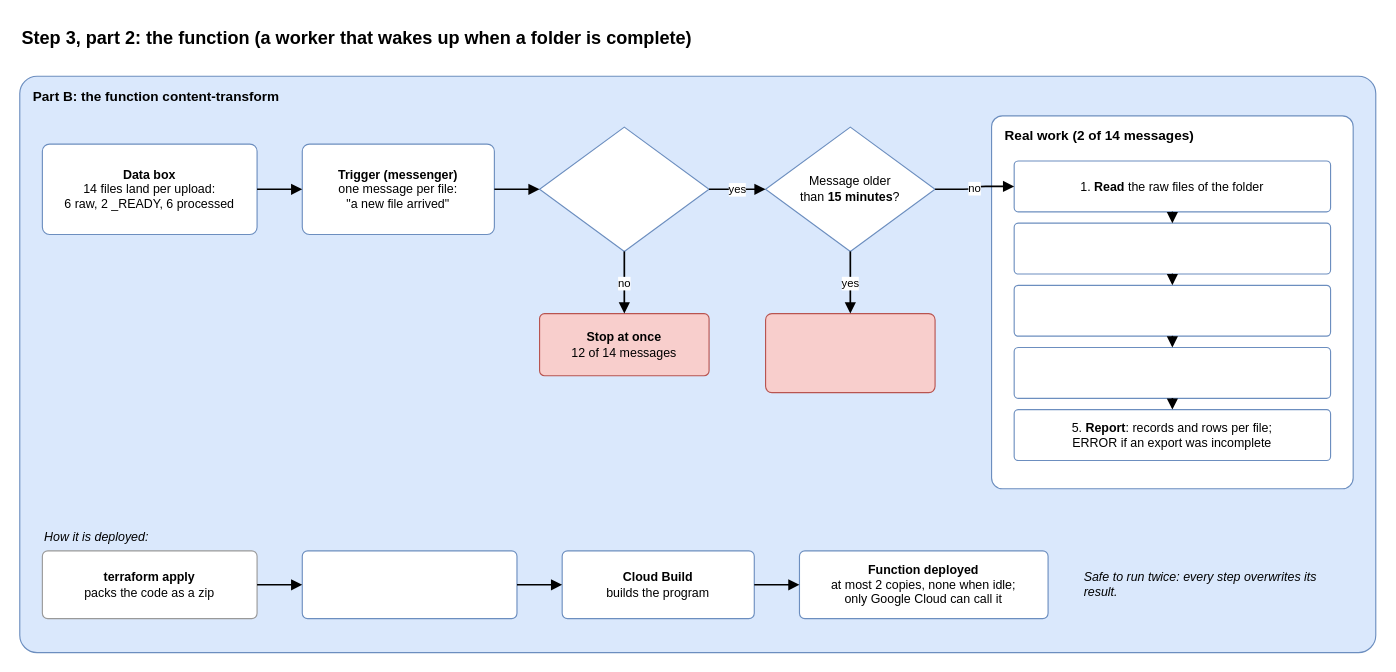
The diagram is 1396 pixels wide and 672 high, and some of its shapes have lost their labels. The centre of each missing label's shape, as x and y in pixels:
"2. Clean : remove wrapping and HTML; check records against the export's total" belongs at (1172,248).
"3. Save to processed/ (overwrite)" belongs at (1172,310).
"4. Load into the staging tables (replace)" belongs at (1172,372).
"Code box function-source-<md5>.zip" belongs at (409,584).
"Is the file _READY ?" belongs at (623,188).
"Log a warning, stop a permanent problem stays visible in the logs" belongs at (849,352).
